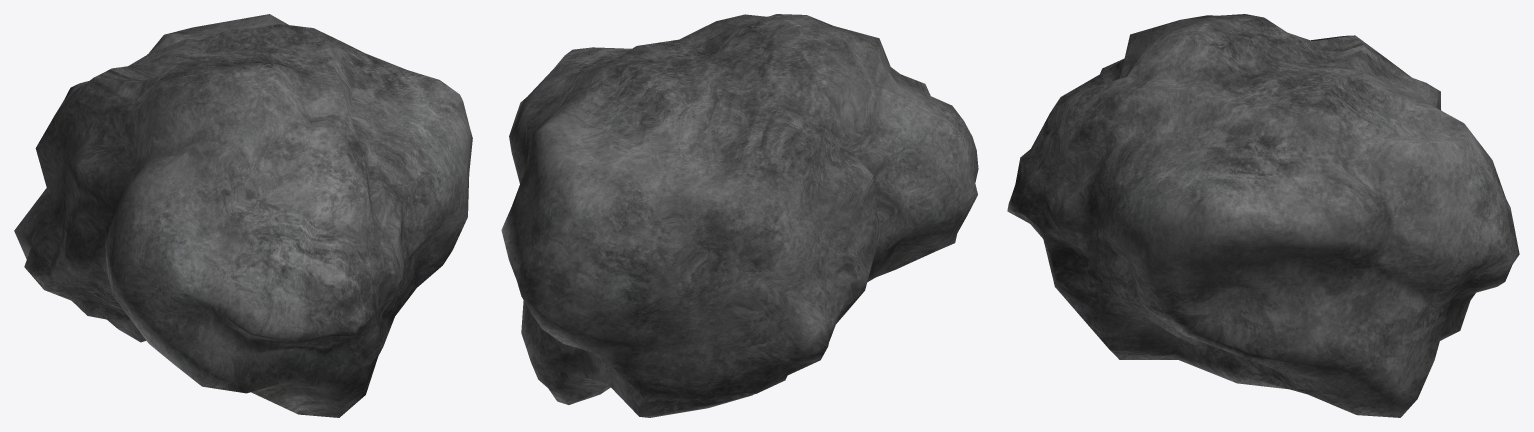
Rendered from Rock2.FBX.
3 views of the same model, side by side, from view 1: azimuth 30°, elevation 25°; view 2: azimuth 150°, elevation 25°; view 3: azimuth 270°, elevation 25° (orthographic). The views are drawn at different scales.
Visible parts, largest first — view 1: CL_PM3D_Skin_PM3D_Rock; view 2: CL_PM3D_Skin_PM3D_Rock; view 3: CL_PM3D_Skin_PM3D_Rock.
Boxes of the visible parts, box(x1,y1,x2,y2) form: CL_PM3D_Skin_PM3D_Rock: box(14, 14, 472, 417); CL_PM3D_Skin_PM3D_Rock: box(501, 14, 978, 417); CL_PM3D_Skin_PM3D_Rock: box(1007, 14, 1519, 417).
Size of the model in its own units: 2.69 by 2.33 by 3.26.
